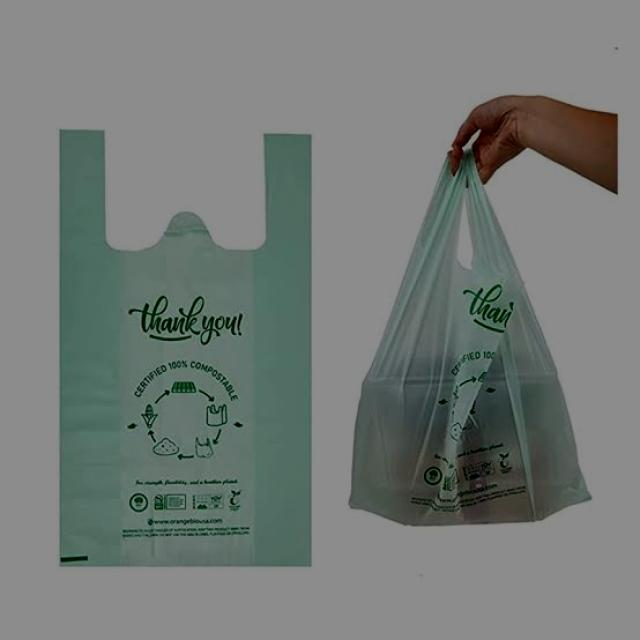residual: (38, 114, 328, 577), (344, 143, 602, 539)
